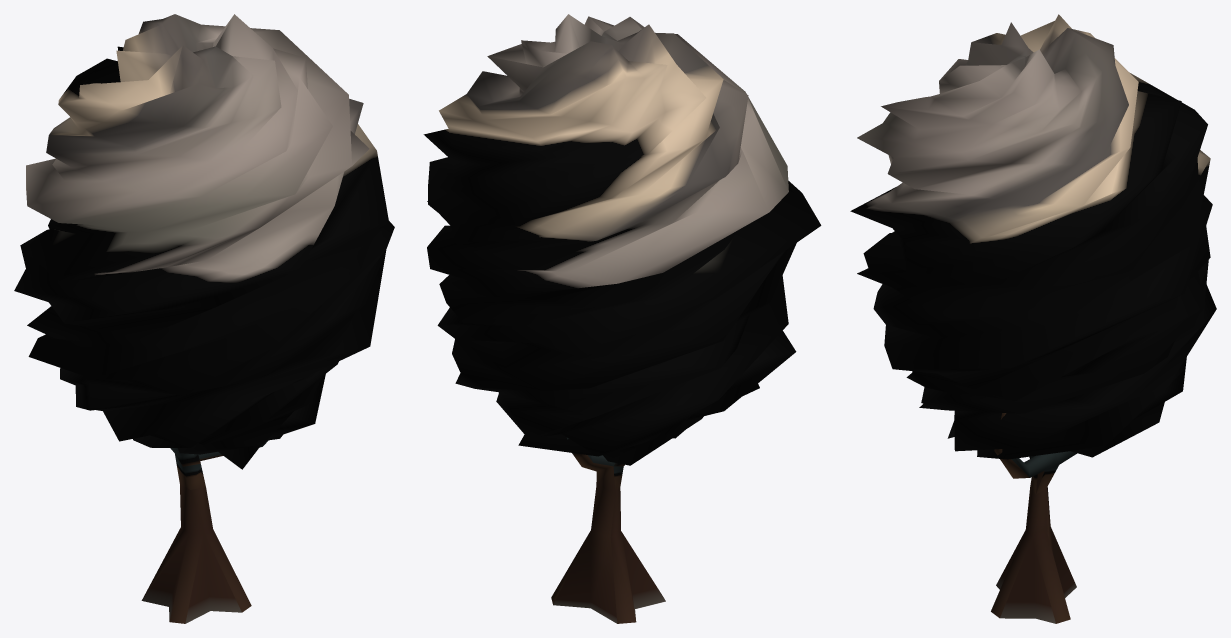
The model's file is Tree_2J.fbx.
The picture shows the model from 3 angles, left to right: view 1: azimuth 30°, elevation 25°; view 2: azimuth 150°, elevation 25°; view 3: azimuth 270°, elevation 25°; orthographic projection.
Parts seen in each view (by area): view 1: Tree_2J; view 2: Tree_2J; view 3: Tree_2J.
Boxes of the visible parts, left/top/right/bottom form: Tree_2J: left=14, top=14, right=394, bottom=623; Tree_2J: left=423, top=14, right=821, bottom=623; Tree_2J: left=850, top=14, right=1216, bottom=623.
Size of the model in its own units: 8.21 by 12.8 by 7.46.
